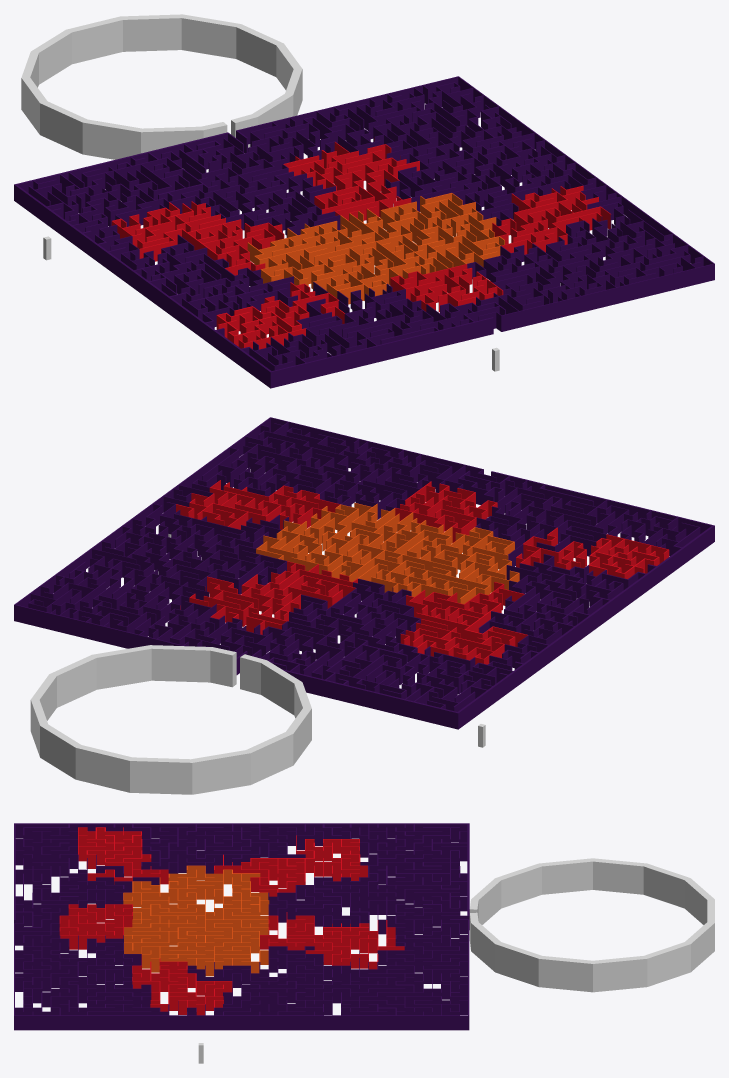
File: Maze.fbx
The picture shows the model from 3 angles, top to bottom: view 1: azimuth 30°, elevation 25°; view 2: azimuth 150°, elevation 25°; view 3: azimuth 270°, elevation 25°; orthographic projection. The views are drawn at different scales.
Visible parts, largest first — view 1: MazeLeft, MazeRight, MazeLeft.002, Winner, MazeRight.001; view 2: MazeLeft, MazeRight, MazeLeft.002, Winner, MazeRight.001; view 3: MazeRight, MazeLeft, MazeLeft.002, Winner, MazeRight.001.
Part boxes in pixels (bbox=[...]): MazeLeft: bbox=[14, 132, 505, 388]; MazeRight: bbox=[236, 76, 714, 331]; MazeLeft.002: bbox=[111, 137, 610, 349]; Winner: bbox=[21, 14, 302, 159]; MazeRight.001: bbox=[247, 193, 504, 304]; MazeLeft: bbox=[252, 470, 714, 729]; MazeRight: bbox=[14, 417, 496, 674]; MazeLeft.002: bbox=[176, 480, 669, 664]; Winner: bbox=[30, 645, 311, 794]; MazeRight.001: bbox=[256, 502, 519, 603]; MazeRight: bbox=[14, 915, 469, 1030]; MazeLeft: bbox=[14, 823, 469, 934]; MazeLeft.002: bbox=[59, 827, 404, 1015]; Winner: bbox=[469, 858, 714, 992]; MazeRight.001: bbox=[123, 865, 269, 976].
Bounding box in the file's own units: 717 × 95.4 × 1103.
